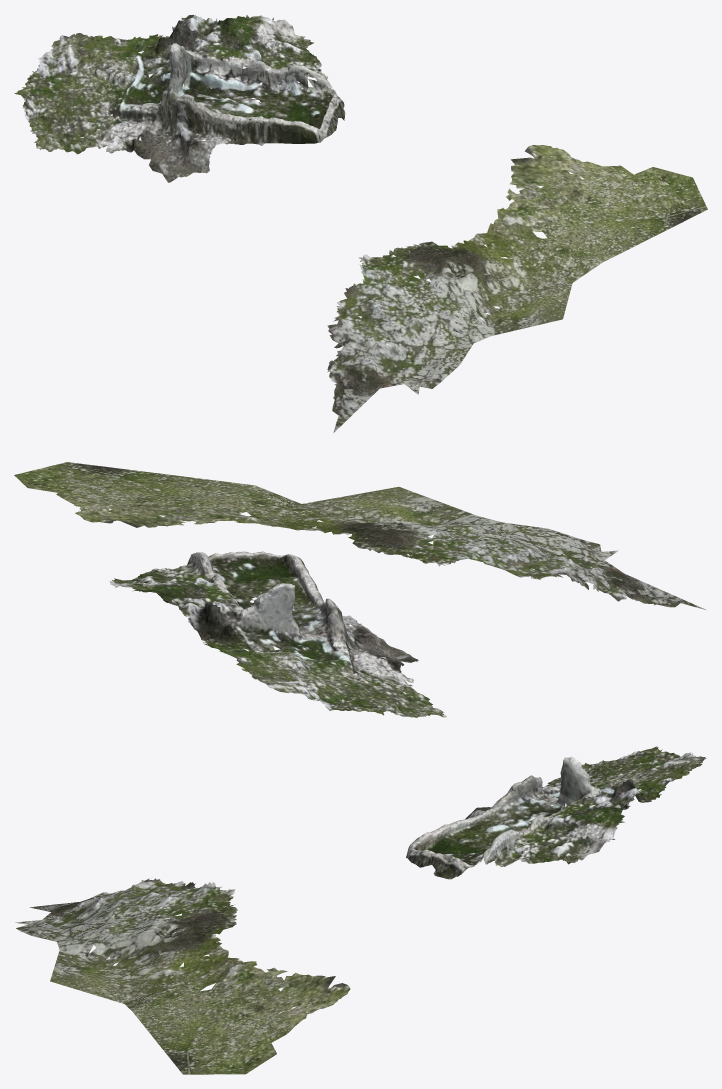
3 renders of one model, top to bottom at view 1: azimuth 30°, elevation 25°; view 2: azimuth 150°, elevation 25°; view 3: azimuth 270°, elevation 25°, orthographic. The views are drawn at different scales.
Bounding box in the file's own units: 37.56 × 13.05 × 41.46.
Materials: 1 (1 with a texture image).
